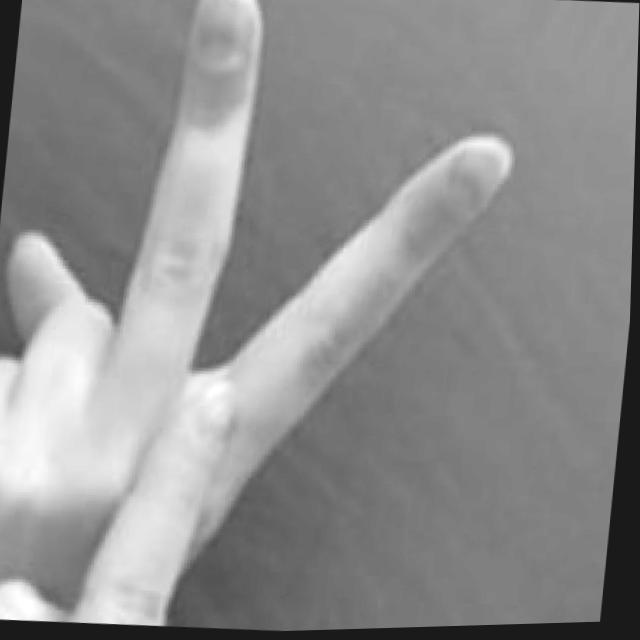Y: (0, 0, 530, 640)
